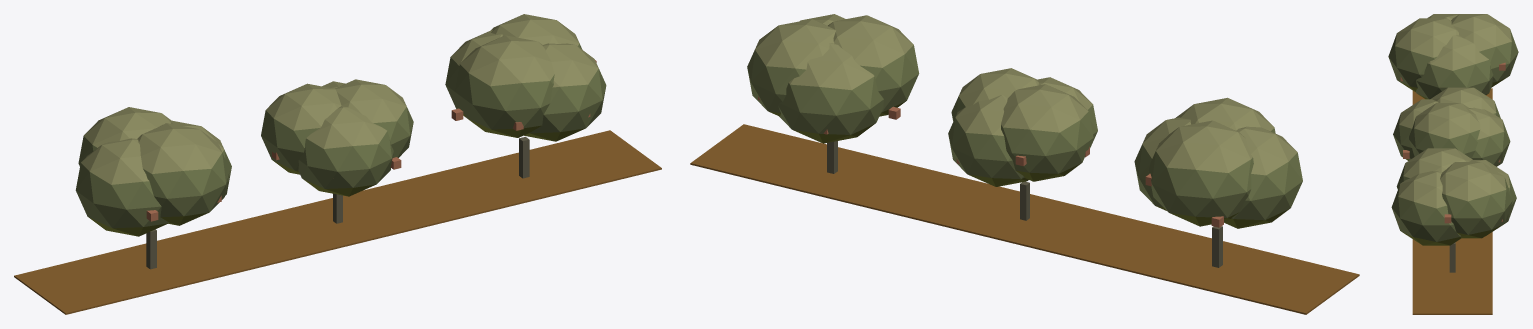
File: SM_Naranjos_v3_HileraAdulta_LOD0.fbx
3 views of the same model, side by side, from view 1: azimuth 30°, elevation 25°; view 2: azimuth 150°, elevation 25°; view 3: azimuth 270°, elevation 25° (orthographic). The views are drawn at different scales.
Visible parts, largest first — view 1: SM_viveres_nules_v3_LOD0; view 2: SM_viveres_nules_v3_LOD0; view 3: SM_viveres_nules_v3_LOD0.
Boxes of the visible parts, <box> form: SM_viveres_nules_v3_LOD0: <box>14,14,661,314</box>; SM_viveres_nules_v3_LOD0: <box>690,14,1359,314</box>; SM_viveres_nules_v3_LOD0: <box>1388,14,1518,314</box>.
Bounding box in the file's own units: 16 × 3.77 × 3.91.
